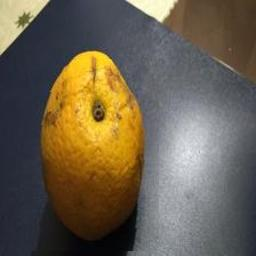Orange Semifresh: (24, 41, 160, 252)
